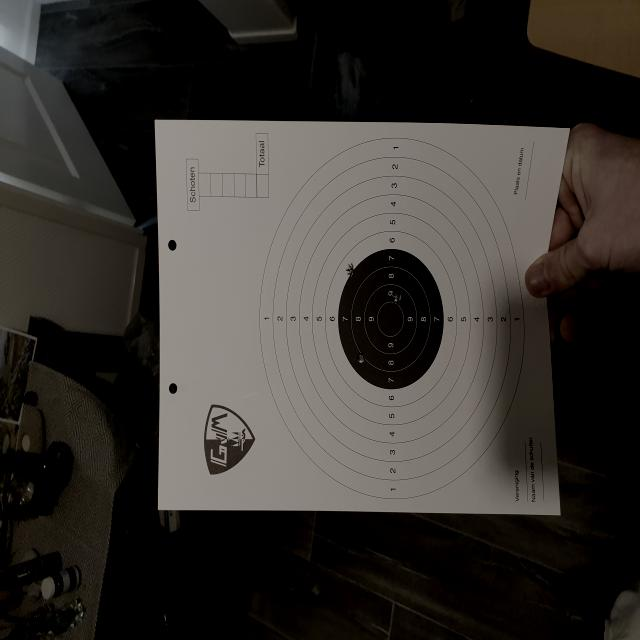10: (392, 291, 403, 306)
7: (346, 263, 356, 280)
8: (357, 352, 366, 365)
Target: (259, 135, 525, 499)
black_contour: (338, 248, 443, 388)
